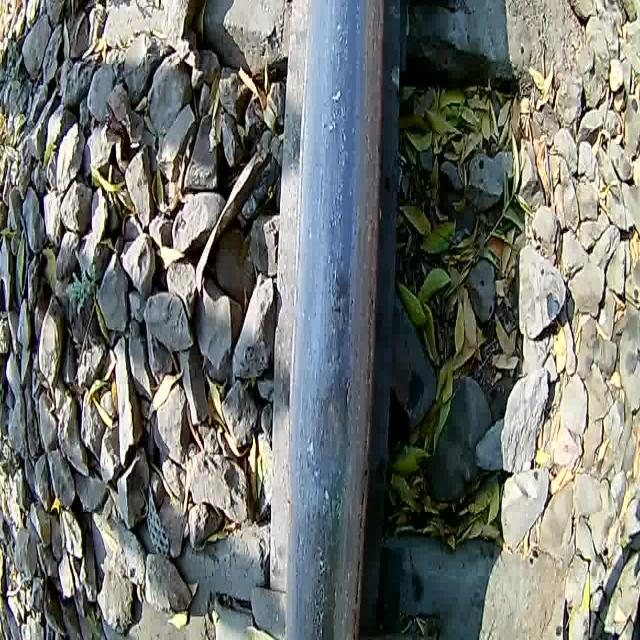Squats: (269, 266, 401, 516), (269, 528, 385, 640)
